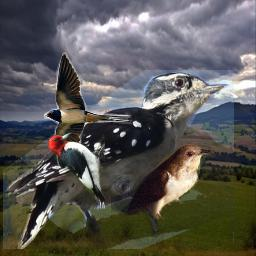Cuckoo: (111, 144, 215, 220)
Swallow: (44, 52, 132, 172)
Woodpecker: (3, 70, 234, 249), (48, 132, 105, 209)
